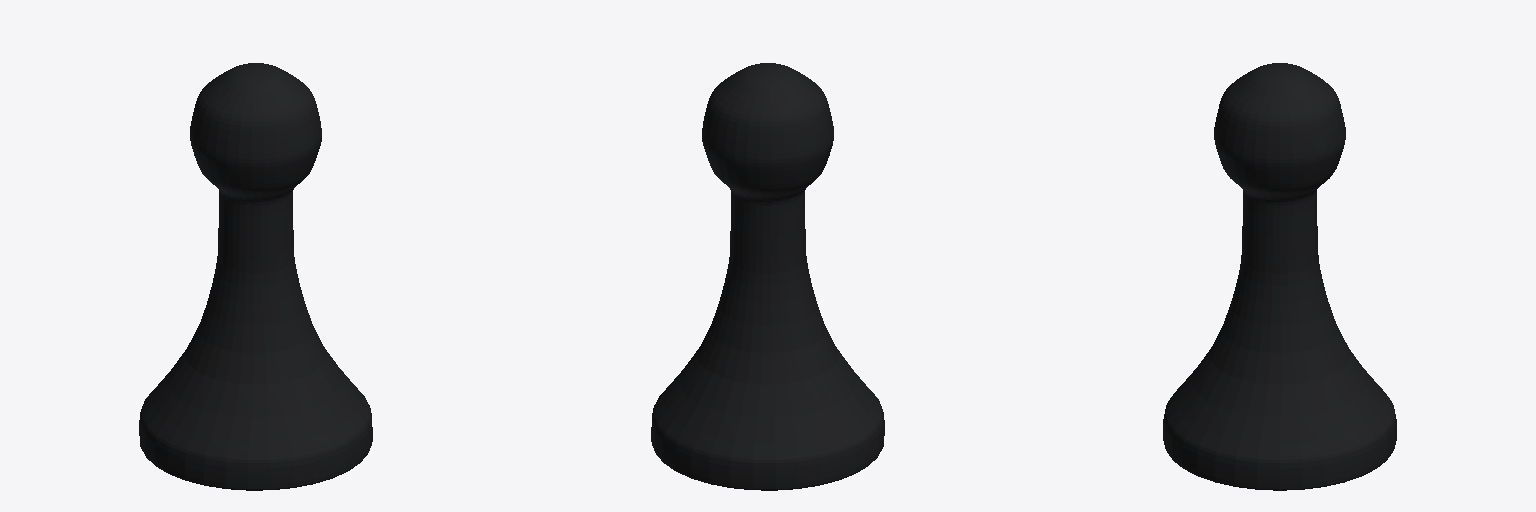
File: default_figure.obj
The picture shows the model from 3 angles: view 1: azimuth 30°, elevation 25°; view 2: azimuth 150°, elevation 25°; view 3: azimuth 270°, elevation 25°; orthographic projection.
Visible parts, largest first — view 1: Cube; view 2: Cube; view 3: Cube.
Boxes of the visible parts, <box> form: Cube: <box>139,63,372,490</box>; Cube: <box>651,63,884,490</box>; Cube: <box>1163,63,1396,490</box>.
Bounding box in the file's own units: 2.56 × 4.51 × 2.56.